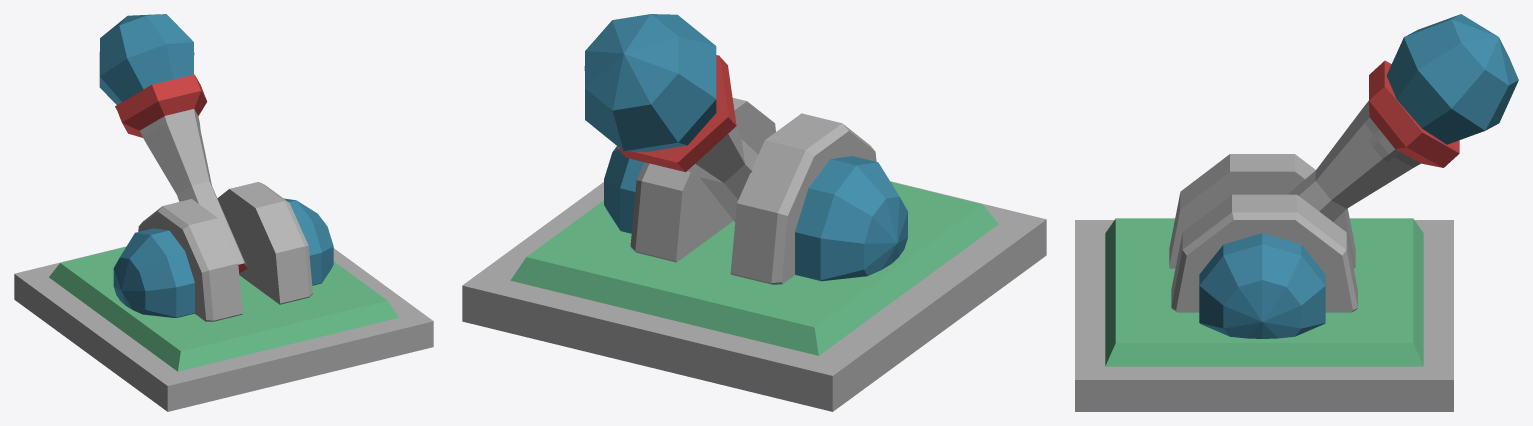
The model's file is leverswitch2.fbx.
3 views of the same model, side by side, from view 1: azimuth 30°, elevation 25°; view 2: azimuth 150°, elevation 25°; view 3: azimuth 270°, elevation 25° (orthographic). The views are drawn at different scales.
Parts seen in each view (by area): view 1: base, basetop, Loft, Cylinder_2, Sphere, Cylinder, Sphere_2, Sphere_3; view 2: base, basetop, Sphere, Cylinder, Sphere_2, Cylinder_2, Loft, Sphere_3, Cap_1; view 3: basetop, base, Sphere, Sphere_3, Cylinder_2, Loft, Cylinder, Cap_1.
Part boxes in pixels (x1,y1,x2,y2): base: (14, 246, 433, 411); basetop: (49, 247, 398, 371); Loft: (115, 74, 246, 266); Cylinder_2: (217, 182, 312, 304); Sphere: (99, 14, 194, 104); Cylinder: (138, 199, 242, 321); Sphere_2: (113, 228, 194, 317); Sphere_3: (284, 198, 333, 285); base: (462, 181, 1046, 411); basetop: (510, 182, 998, 355); Sphere: (584, 14, 716, 151); Cylinder: (730, 113, 876, 284); Sphere_2: (795, 156, 907, 281); Cylinder_2: (630, 98, 775, 262); Loft: (617, 57, 758, 221); Sphere_3: (604, 146, 644, 233); Cap_1: (618, 55, 728, 162); basetop: (1105, 218, 1423, 366); base: (1075, 220, 1453, 411); Sphere: (1386, 14, 1518, 145); Sphere_3: (1199, 233, 1325, 338); Cylinder_2: (1171, 194, 1357, 312); Loft: (1287, 61, 1459, 221); Cylinder: (1169, 154, 1355, 268); Cap_1: (1384, 60, 1459, 152).
Bounding box in the file's own units: 200 × 192 × 234.
